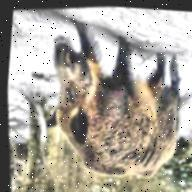boar: (30, 12, 192, 192)
